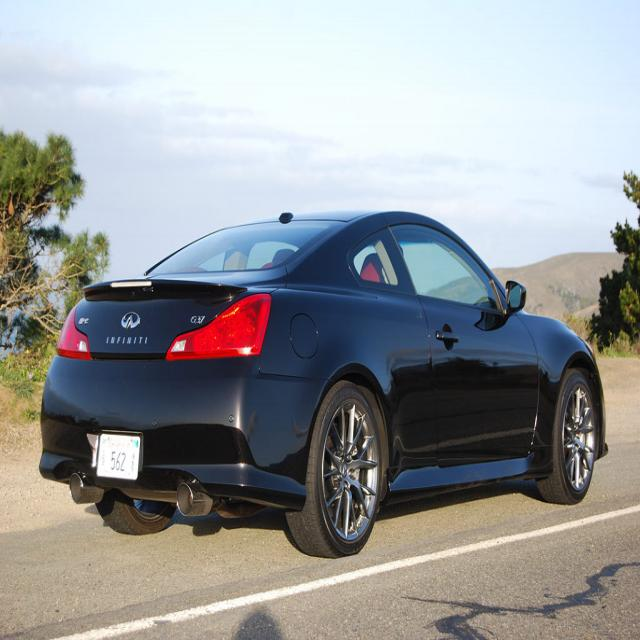car: (22, 187, 622, 574)
